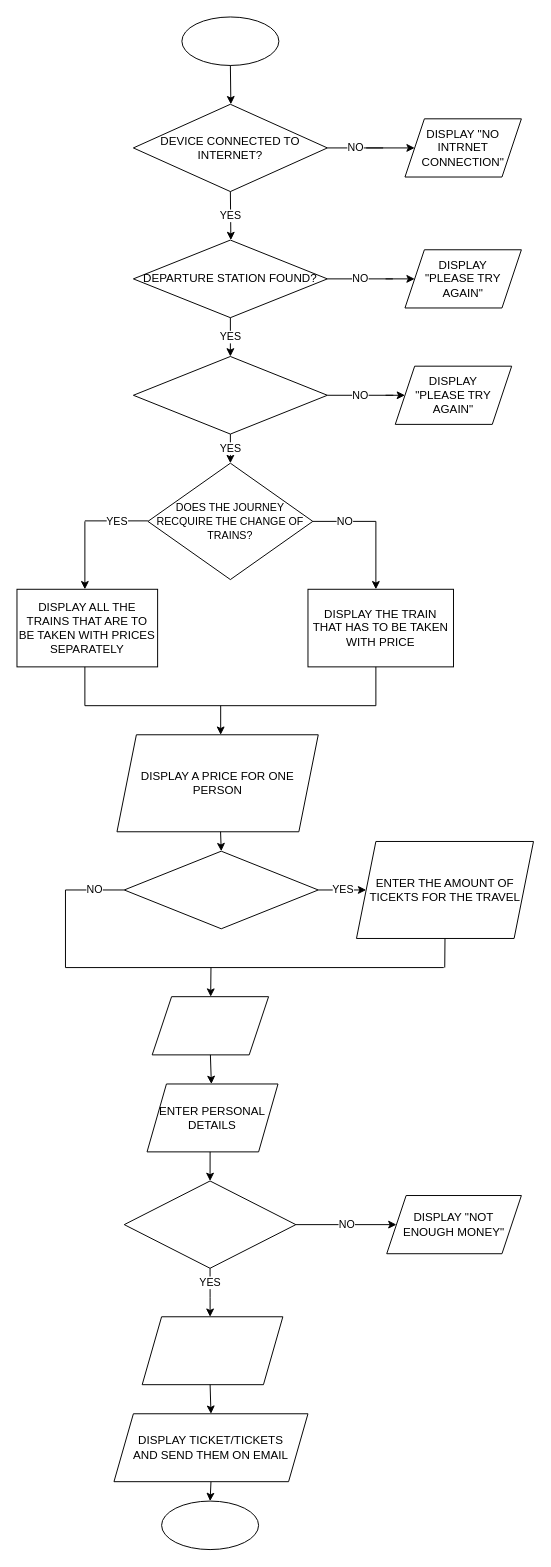
The diagram is 551 pixels wide and 1567 high, and some of its shapes have lost their labels. Here are the shapes that lost their labels. From the top down, the centre of each, then its label:
At (230,40): "START".
At (229,395): "ARRIVAL STATION FOUND?".
At (220,889): "WISH TO BUY DIFFERENT AMOUNT OF TICKETS?".
At (210,1025): "DISPLAY TOTAL PRICE".
At (209,1224): "ENOUGH MONEY ON ACCOUNT?".
At (212,1350): "TRANSFER MONEY".
At (210,1525): "END".
